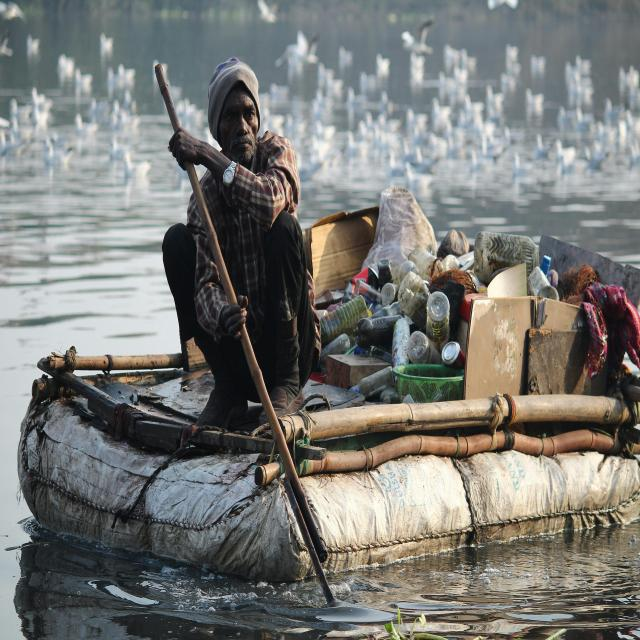cardboard: (476, 295, 564, 388)
plastic: (350, 270, 435, 354)
